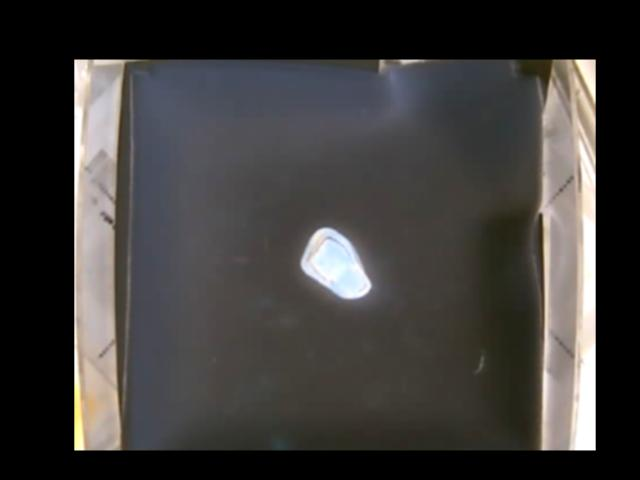Pebble: (297, 224, 372, 298)
